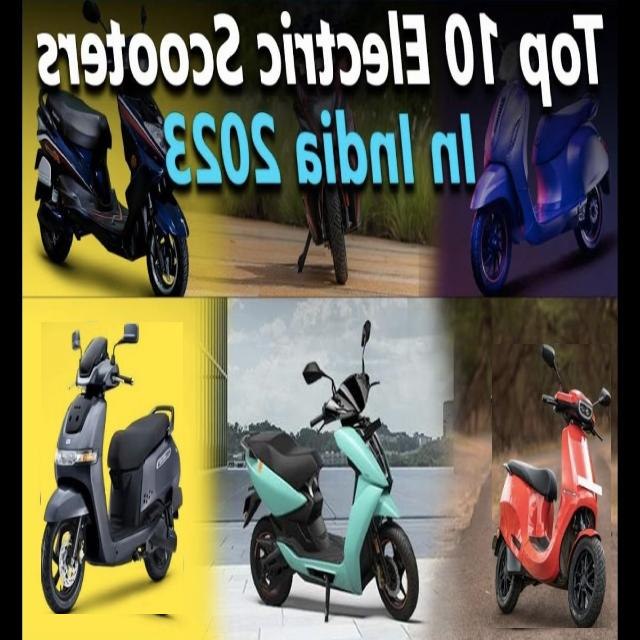motorcycle: (244, 320, 419, 621), (41, 323, 182, 614), (492, 344, 610, 628)
